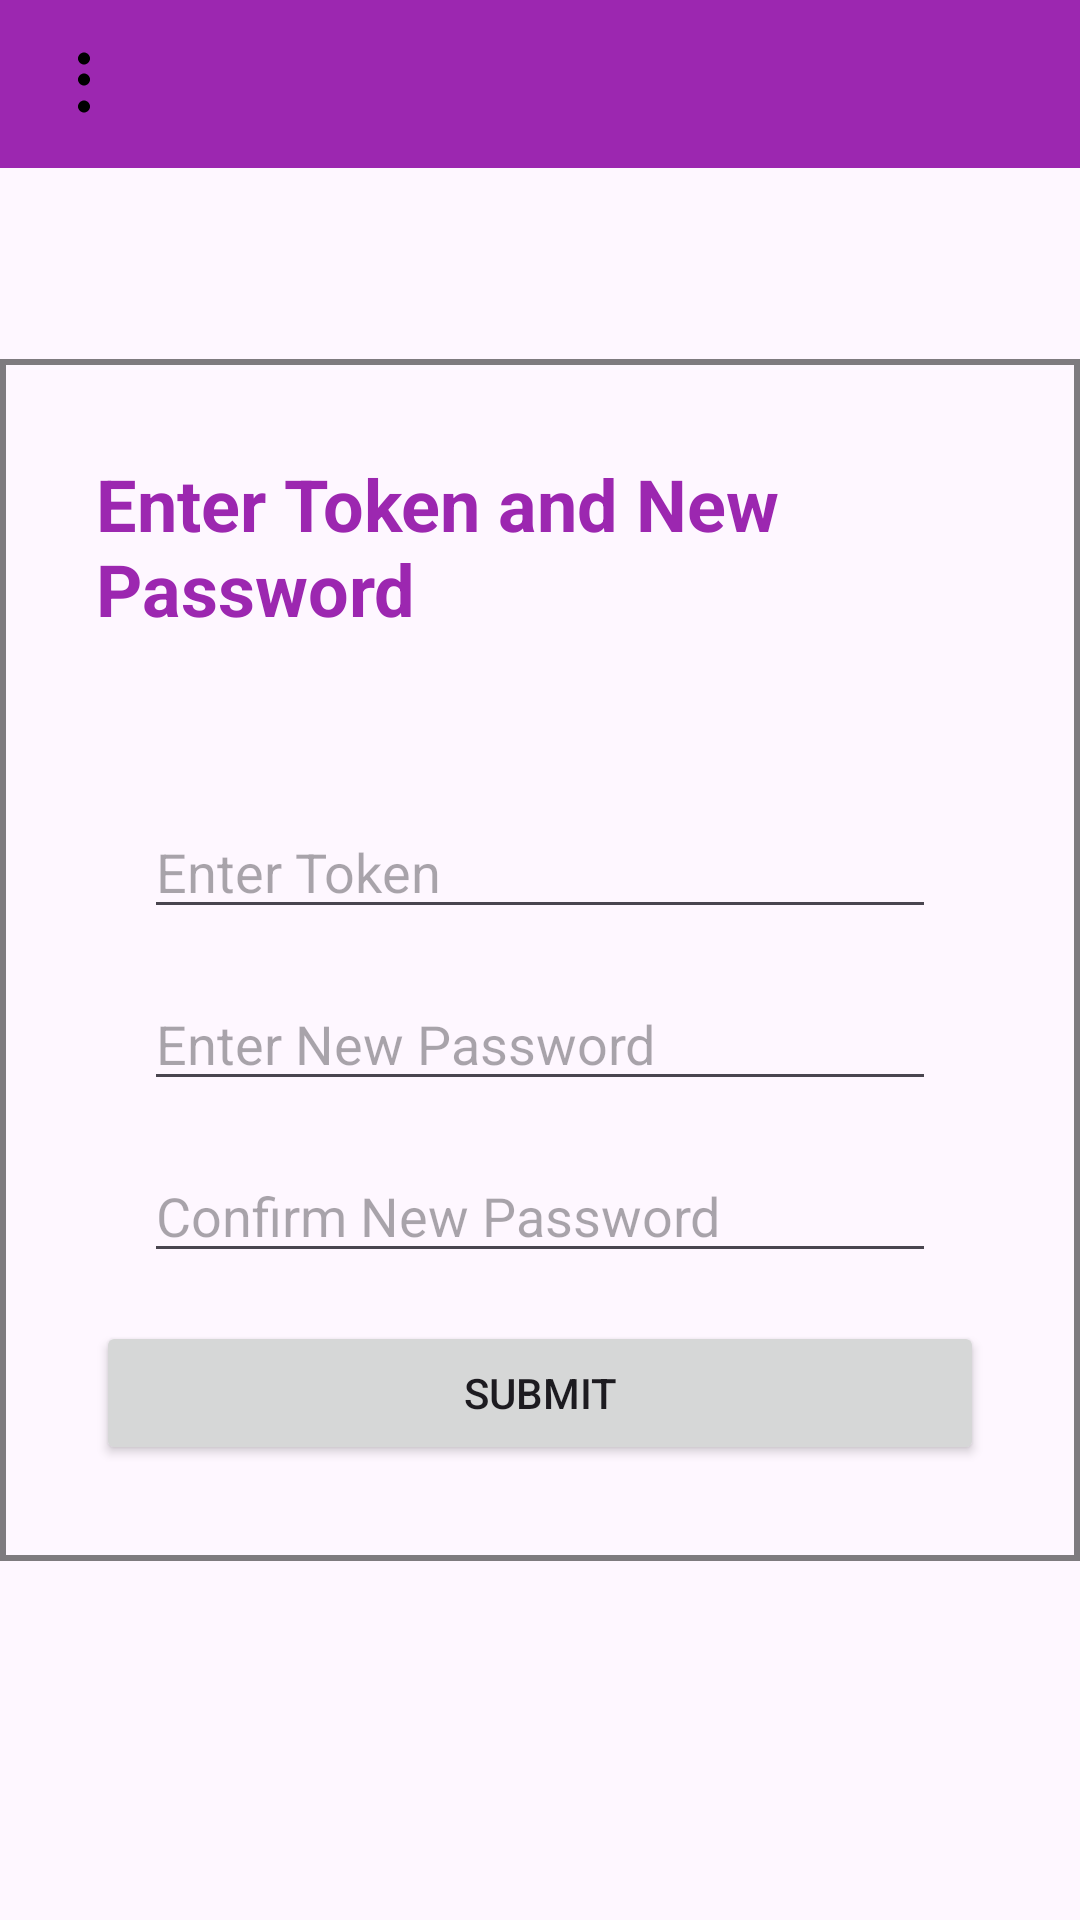

Point at icon controls on the screen. Image size 1080px×1920px, points as (x,y).
Three Dot Menu: (84,82)
